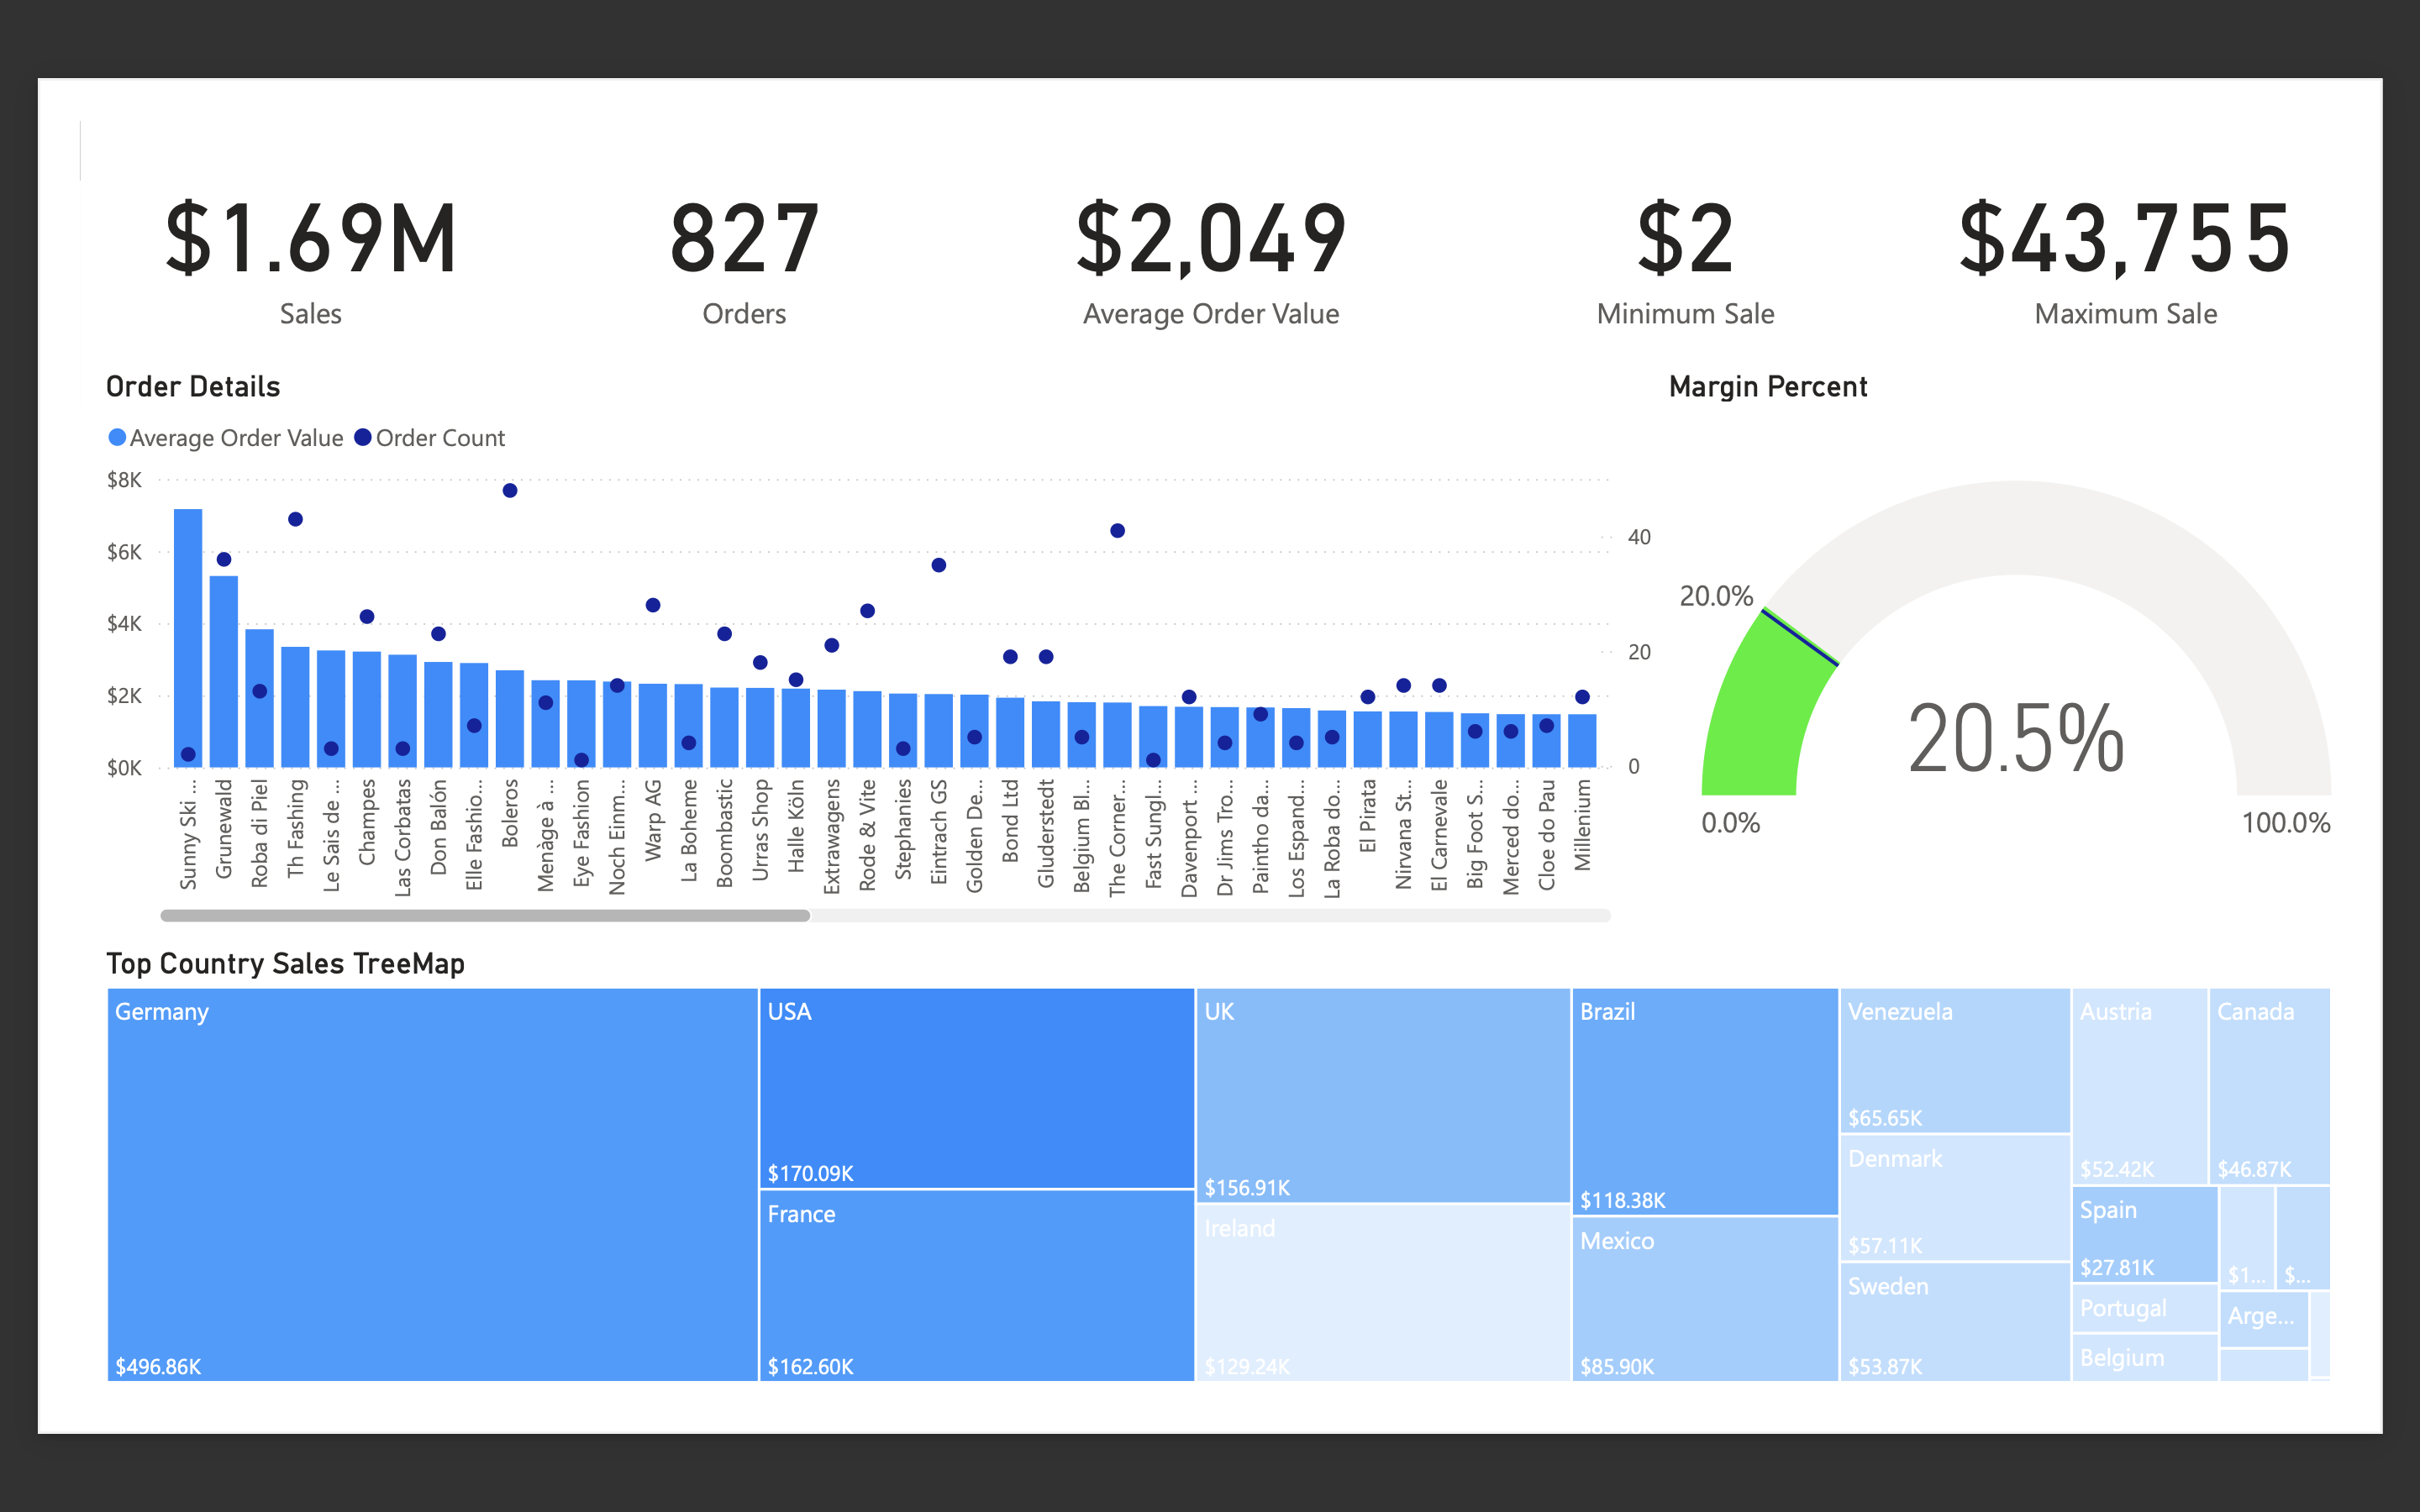

This screenshot's page, from the dashboard's own definition file:
{"tool":"powerbi","page":{"name":"Details","canvas":[1280,720],"ordinal":2},"visuals":[{"type":"card","fields":{"Values":["Orders.Total Sales"]},"box":[10.2,0,242,140.1],"z":0},{"type":"card","fields":{"Values":["Orders.Orders"]},"box":[252.2,0,248.4,140.1],"z":1000},{"type":"card","fields":{"Values":["Orders.Average Order Value"]},"box":[500.5,0,280.2,140.1],"z":2000},{"type":"card","fields":{"Values":["Orders.Minimum Sale"]},"box":[780.7,0,257.3,140.1],"z":3000},{"type":"card","fields":{"Values":["Orders.Maximum Sale"]},"box":[1038,0,242,140.1],"z":4000},{"type":"gauge","fields":{"Y":["Orders.Margin Percent"]},"box":[895.4,140.1,384.6,318.4],"z":5000},{"type":"lineClusteredColumnComboChart","title":"Order Details","fields":{"Category":["Customers.Customer"],"Y":["Orders.Average Order Value"],"Y2":["Orders.Orders"]},"box":[10.2,140.1,885.2,318.4],"z":6000},{"type":"treemap","title":"Top Country Sales TreeMap","fields":{"Group":["Customers.CustomerCountry"],"Values":["Sum(Orders.Sales)"]},"box":[10.2,467.4,1269.8,252.2],"z":7000}]}

Visuals, with their boxes on the page's 1280x720 design canvas (x1, y1, x2, y2). These are canvas units, not pixel positions in the 2420x1512 screenshot, which may show the page scaled, cropped or inside an application window:
card - Orders.Total Sales: box(10, 0, 252, 140)
card - Orders.Orders: box(252, 0, 501, 140)
card - Orders.Average Order Value: box(500, 0, 781, 140)
card - Orders.Minimum Sale: box(781, 0, 1038, 140)
card - Orders.Maximum Sale: box(1038, 0, 1280, 140)
gauge - Orders.Margin Percent: box(895, 140, 1280, 458)
"Order Details" lineClusteredColumnComboChart: box(10, 140, 895, 458)
"Top Country Sales TreeMap" treemap: box(10, 467, 1280, 720)
